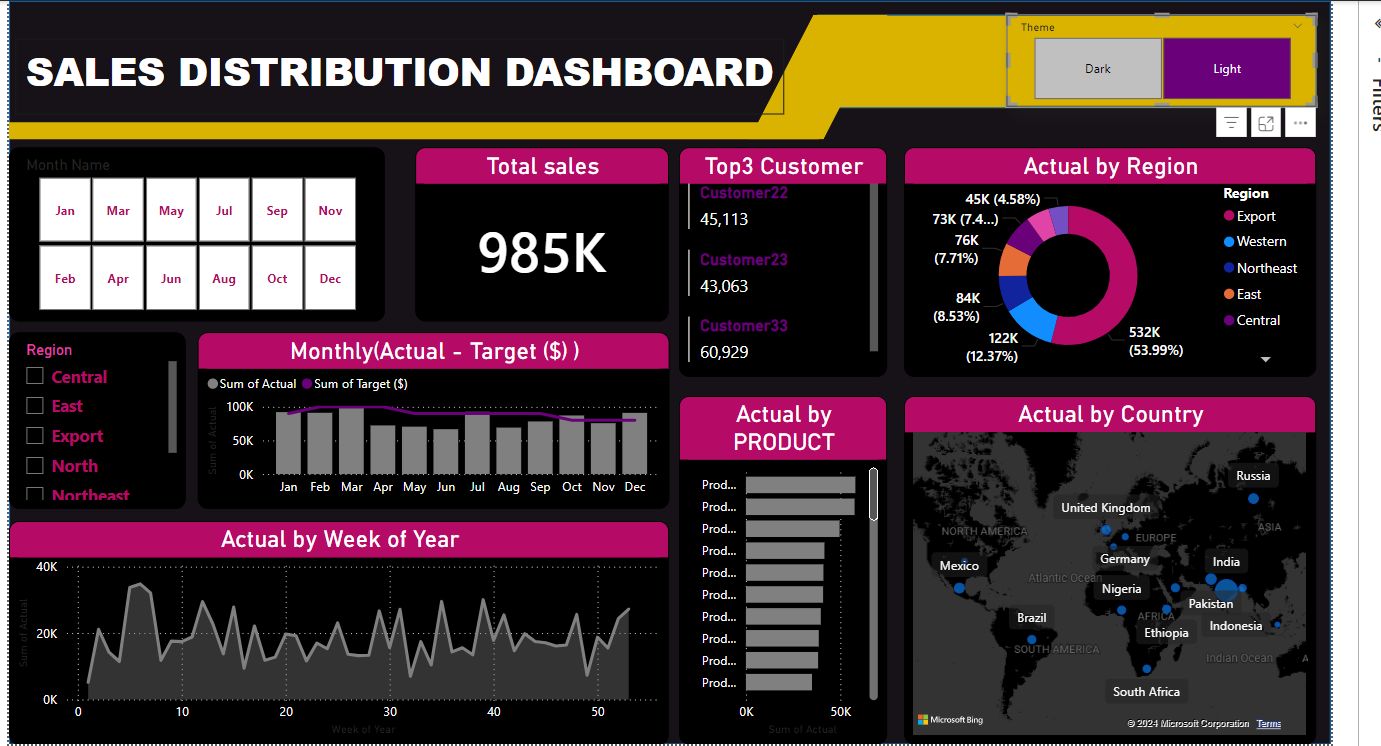

Layout of this report page (visuals, bound fields, positions):
{"tool":"powerbi","page":{"name":"Page 1","canvas":[1280,720],"ordinal":0},"visuals":[{"type":"shape","box":[0,0,1280,720],"z":0},{"type":"shape","box":[0,13.7,783.5,104.3],"z":1000},{"type":"slicer","fields":{"Values":["InputData.Month Name"]},"box":[0,141.3,363.6,168.8],"z":2000},{"type":"card","title":"Total sales","fields":{"Values":["Sum(InputData.Actual)"]},"box":[393.8,141.3,245.6,168.8],"z":3000},{"type":"slicer","fields":{"Values":["Country.Region"]},"box":[0,321.1,171.5,171.5],"z":4000},{"type":"lineClusteredColumnComboChart","title":"Monthly(Actual - Target ($) )","fields":{"Y2":["Sum(TargetData.Target ($))"],"Y":["Sum(InputData.Actual)"],"Category":["TargetData.Month Name"]},"box":[182.5,321.1,456.9,171.5],"z":5000},{"type":"areaChart","title":"Actual by Week of Year","fields":{"Category":["InputData.Week of Year"],"Y":["Sum(InputData.Actual)"]},"box":[0,503.6,639.5,216.8],"z":6000},{"type":"multiRowCard","title":"Top3 Customer","fields":{"Values":["Country.Customer Name","Sum(InputData.Actual)"]},"box":[649.1,141.3,201.7,222.3],"z":7000},{"type":"barChart","title":"Actual by PRODUCT","fields":{"Category":["InputData.PRODUCT"],"Y":["Sum(InputData.Actual)"]},"box":[649.1,382.8,201.7,337.6],"z":8000},{"type":"donutChart","title":"Actual by Region","fields":{"Category":["Country.Region"],"Y":["Sum(InputData.Actual)"]},"box":[867.2,141.3,399.3,222.3],"z":9000},{"type":"map","title":" Actual by Country","fields":{"Category":["Country.Country"],"Size":["Sum(InputData.Actual)"]},"box":[867.2,382.8,399.3,337.6],"z":10000},{"type":"shape","box":[0,118,784,16.5],"z":11000},{"type":"shape","box":[783.5,13.7,483,90.6],"z":12000},{"type":"shape","box":[716.3,13.7,134.5,120.8],"z":13000},{"type":"textbox","box":[5.7,35.7,744.3,74.3],"z":14000},{"type":"slicer","fields":{"Values":["Theme.Theme"]},"box":[966,13.3,300.2,89.6],"z":15000}]}

Visuals, with their boxes on the page's 1280x720 design canvas (x1, y1, x2, y2). These are canvas units, not pixel positions in the 1381x746 screenshot, which may show the page scaled, cropped or inside an application window:
shape: 0, 0, 1280, 720
shape: 0, 14, 784, 118
slicer - InputData.Month Name: 0, 141, 364, 310
"Total sales" card: 394, 141, 639, 310
slicer - Country.Region: 0, 321, 172, 493
"Monthly(Actual - Target ($) )" lineClusteredColumnComboChart: 182, 321, 639, 493
"Actual by Week of Year" areaChart: 0, 504, 640, 720
"Top3 Customer" multiRowCard: 649, 141, 851, 364
"Actual by PRODUCT" barChart: 649, 383, 851, 720
"Actual by Region" donutChart: 867, 141, 1266, 364
" Actual by Country" map: 867, 383, 1266, 720
shape: 0, 118, 784, 134
shape: 784, 14, 1266, 104
shape: 716, 14, 851, 134
textbox: 6, 36, 750, 110
slicer - Theme.Theme: 966, 13, 1266, 103
